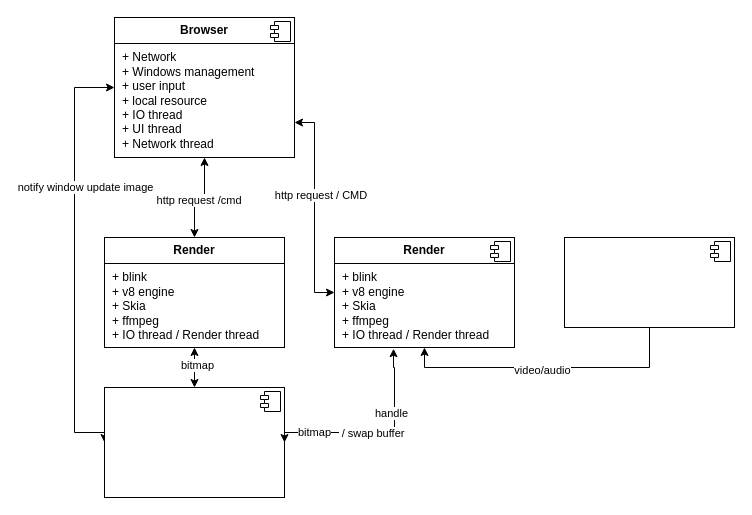
This 752x515 diagram has some shape labels left out. Each missing label, with the box of its shape:
GPU + opengl/mental/directX + skia 栅格化 + GPU thread + IO thread: (104, 386, 284, 498)
Plugin process + action script analyze: (564, 236, 734, 328)
